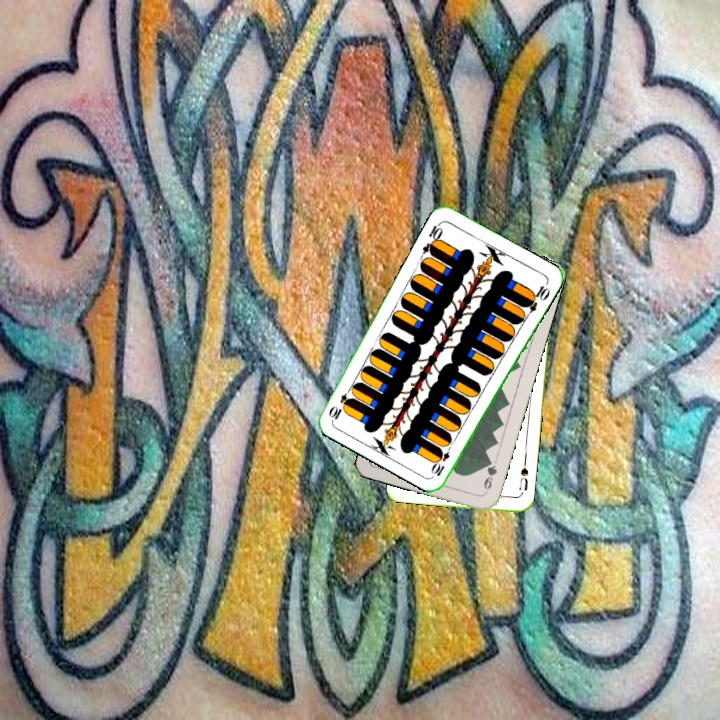E10: (418, 218, 445, 258), (428, 440, 455, 479)
G9: (480, 455, 500, 496)
SU: (515, 458, 531, 498)
